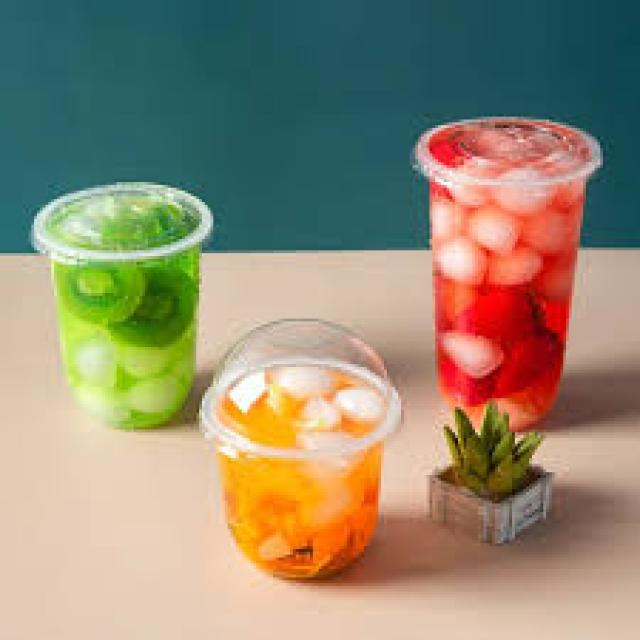bottle: (412, 119, 601, 429), (32, 182, 212, 428), (200, 362, 400, 578)
